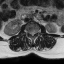CCS_normal: (32, 30, 33, 38)
LFS_stenosis: (35, 30, 37, 35)
LLS_stenosis: (33, 30, 35, 36)
RFS_severe_stenosis: (28, 30, 30, 35)
RLS_normal: (30, 30, 32, 36)
